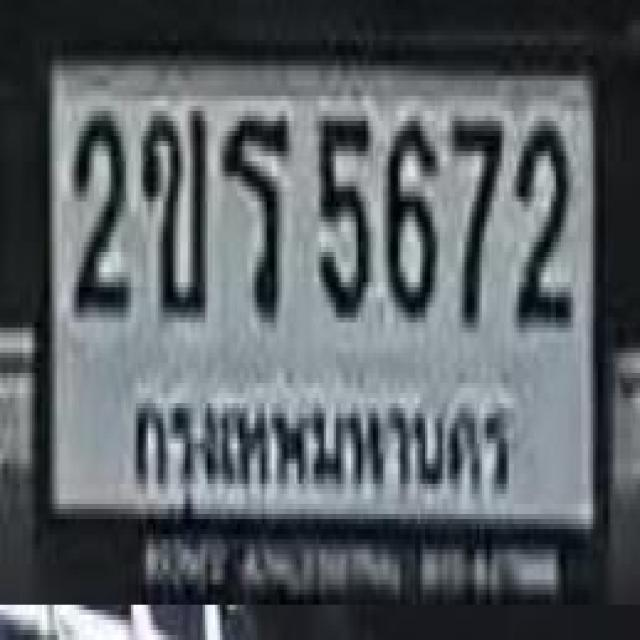license_plate: (27, 36, 620, 610)
